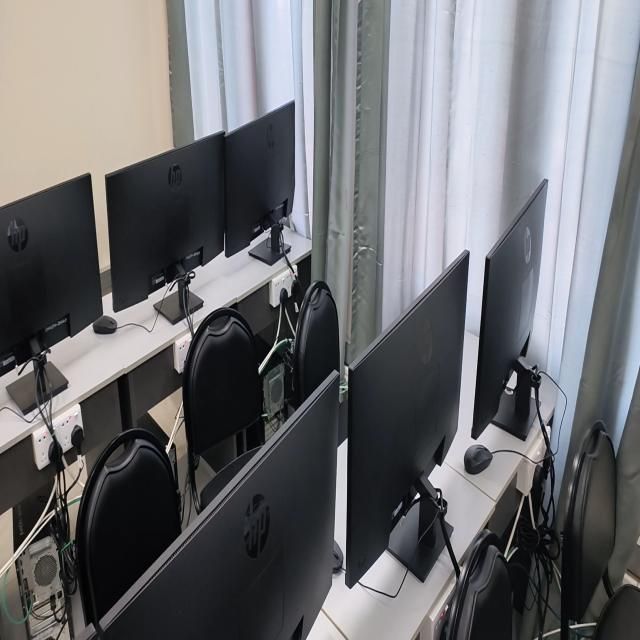Chair: (75, 428, 180, 637), (550, 421, 640, 639), (183, 308, 263, 514), (446, 529, 512, 639), (292, 280, 340, 409)
Cpu: (13, 474, 73, 639), (137, 410, 181, 506), (257, 331, 288, 444)
Monitor: (100, 371, 338, 639), (345, 251, 469, 588), (0, 174, 103, 415), (106, 133, 224, 330), (471, 179, 548, 440), (225, 100, 295, 265)
Mouse: (464, 444, 493, 475), (92, 315, 117, 334), (333, 540, 343, 573)
